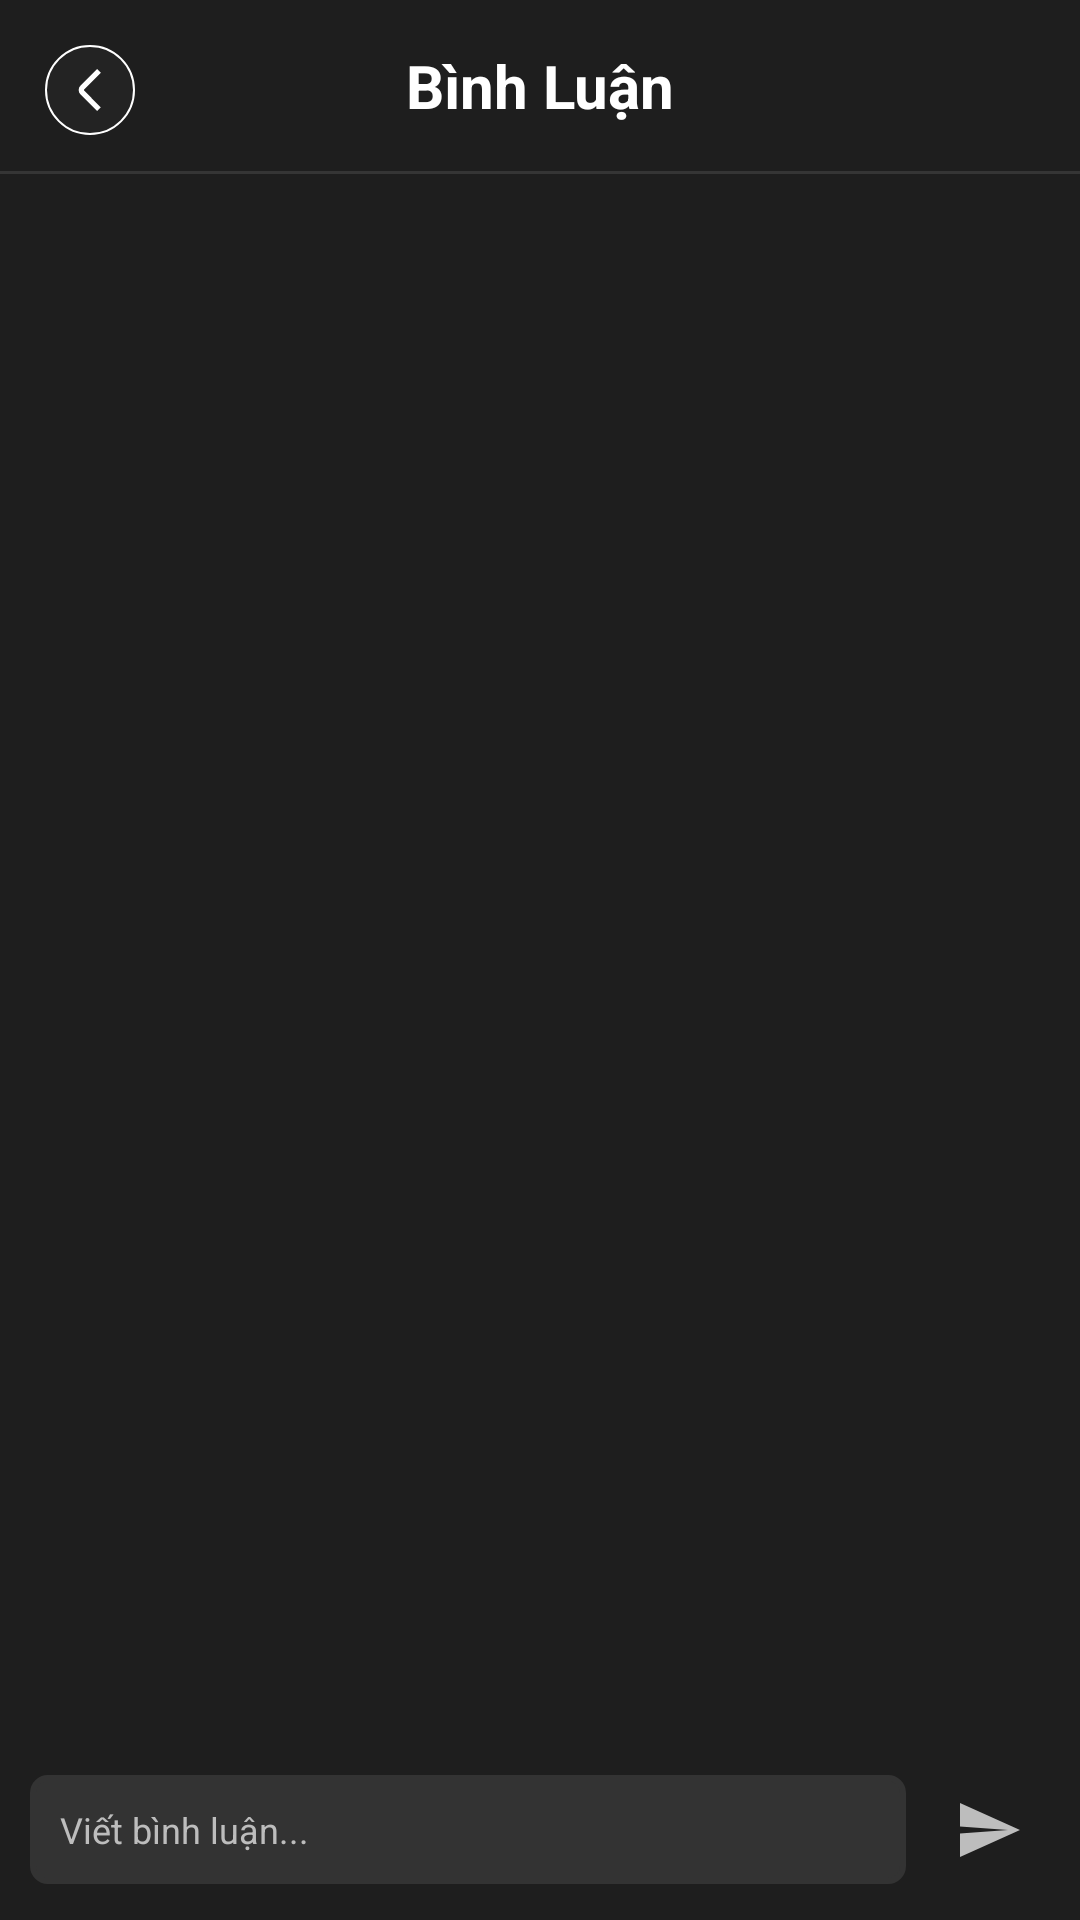

Screen size 1080w x 1920h. Icon name, then its box in pixels as (x1, y1, x2, y2):
back: (45, 45, 135, 135)
send: (960, 1803, 1020, 1857)
